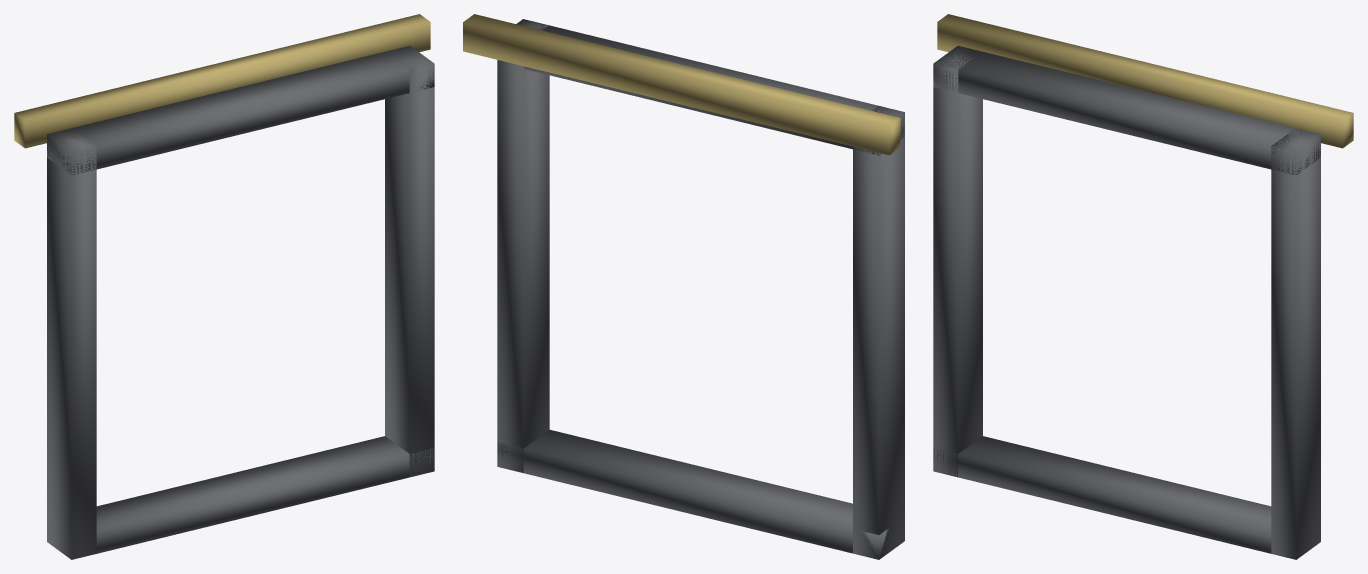
The model's file is egress_window_motel_w118_h130_s55_d16.glb.
3 views of the same model, side by side, from view 1: azimuth 30°, elevation 25°; view 2: azimuth 150°, elevation 25°; view 3: azimuth 330°, elevation 25° (orthographic). The views are drawn at different scales.
Parts seen in each view (by area): view 1: world; view 2: world; view 3: world.
Part boxes in pixels (left/top/right/bottom): world: left=14, top=14, right=434, bottom=559; world: left=463, top=14, right=904, bottom=559; world: left=933, top=14, right=1353, bottom=559.
Size of the model in its own units: 1.53 by 1.53 by 0.235.
